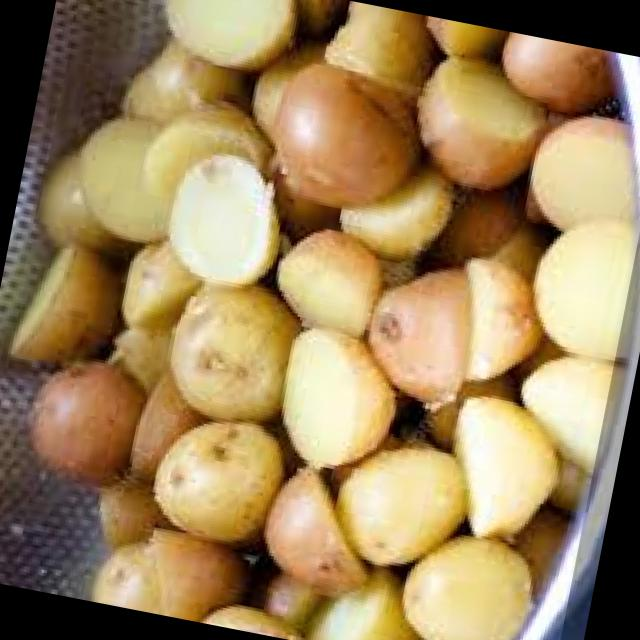Potato: (232, 44, 450, 232), (8, 298, 168, 510), (143, 130, 310, 318), (148, 266, 312, 445), (134, 390, 301, 556), (338, 248, 497, 422), (431, 380, 568, 558), (246, 450, 386, 616), (262, 318, 398, 484), (507, 198, 640, 363), (436, 235, 558, 410), (501, 336, 636, 494), (386, 512, 547, 640), (0, 240, 137, 371), (131, 0, 319, 88), (142, 522, 238, 624)
